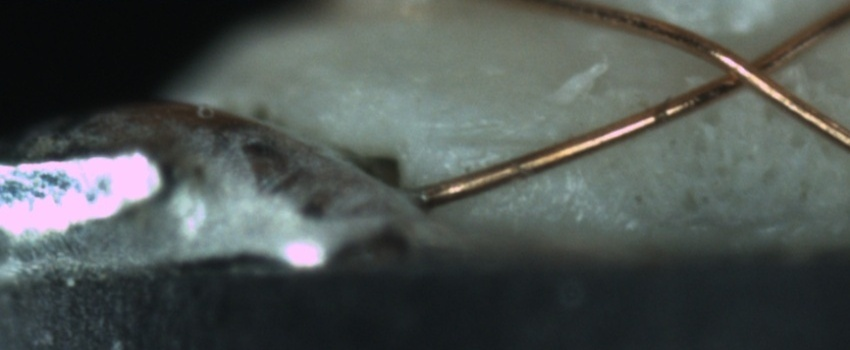CL: (699, 34, 797, 103)
DL: (432, 109, 562, 172)
